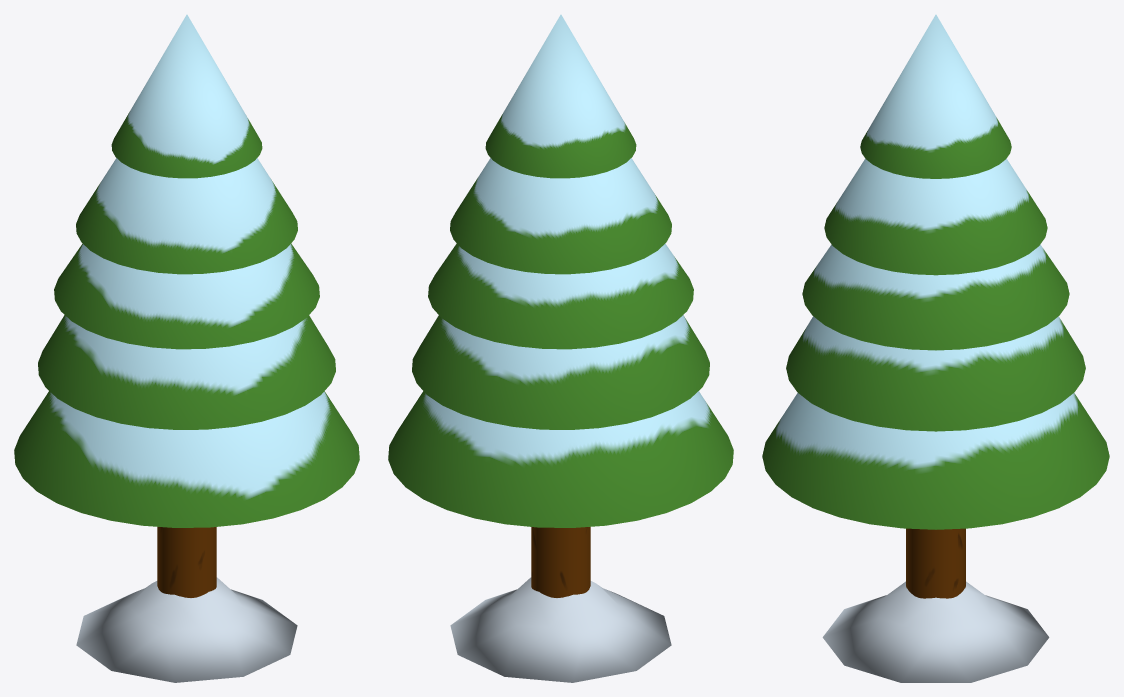
Rendered from Snow_Tree.fbx.
3 views of the same model, side by side, from view 1: azimuth 30°, elevation 25°; view 2: azimuth 150°, elevation 25°; view 3: azimuth 270°, elevation 25° (orthographic).
Parts seen in each view (by area): view 1: Pine, Pine.001, Pine.002, Pine.003, Snow, Pine.004, Trunk; view 2: Pine, Pine.001, Pine.002, Pine.003, Snow, Pine.004, Trunk; view 3: Pine, Pine.001, Pine.002, Pine.003, Snow, Pine.004, Trunk.
Part boxes in pixels (bbox=[...]): Pine: bbox=[14, 391, 359, 527]; Pine.001: bbox=[38, 315, 335, 429]; Pine.002: bbox=[54, 243, 319, 349]; Pine.003: bbox=[76, 158, 297, 274]; Snow: bbox=[76, 577, 297, 682]; Pine.004: bbox=[111, 14, 262, 178]; Trunk: bbox=[157, 527, 216, 597]; Pine: bbox=[388, 391, 733, 527]; Pine.001: bbox=[412, 315, 709, 429]; Pine.002: bbox=[428, 243, 693, 349]; Pine.003: bbox=[450, 158, 671, 274]; Snow: bbox=[450, 577, 671, 682]; Pine.004: bbox=[485, 14, 636, 178]; Trunk: bbox=[531, 527, 590, 597]; Pine: bbox=[762, 393, 1109, 529]; Pine.001: bbox=[786, 316, 1085, 431]; Pine.002: bbox=[802, 244, 1069, 350]; Pine.003: bbox=[824, 158, 1047, 275]; Snow: bbox=[822, 581, 1049, 682]; Pine.004: bbox=[860, 14, 1011, 178]; Trunk: bbox=[906, 528, 965, 598].
Bounding box in the file's own units: 228 × 452 × 228.
